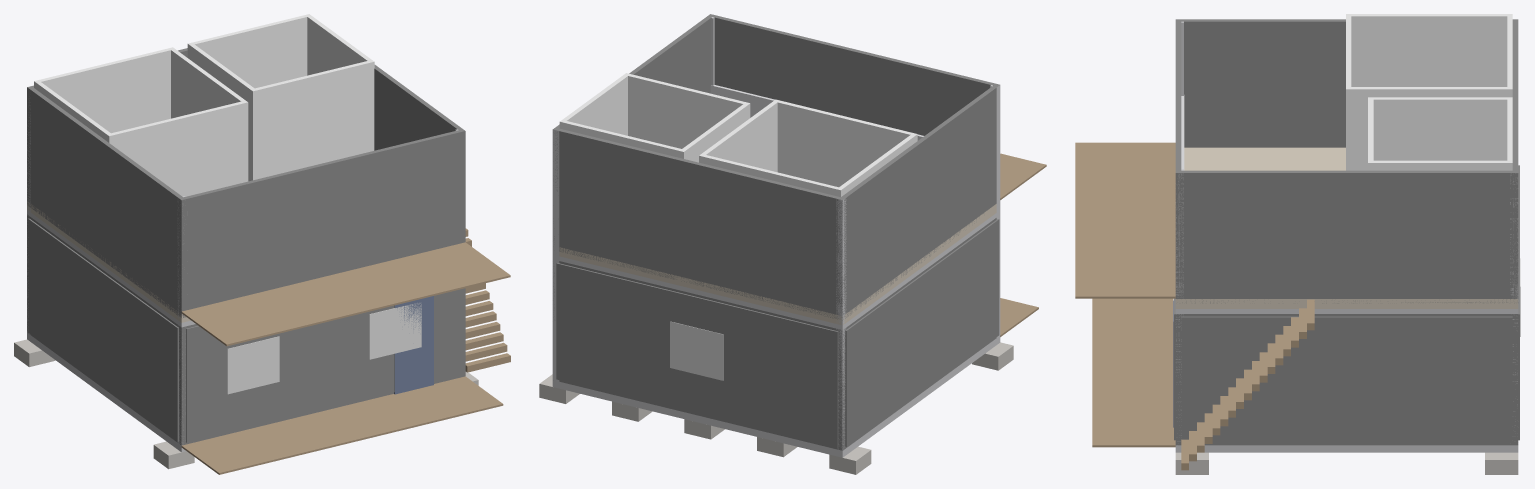
Rendered from Duplex-20-Base-AntiqueWallGrey-LOD1.glb.
The picture shows the model from 3 angles, left to right: view 1: azimuth 30°, elevation 25°; view 2: azimuth 150°, elevation 25°; view 3: azimuth 270°, elevation 25°; orthographic projection. The views are drawn at different scales.
Visible parts, largest first — view 1: ExteriorShellUpper, ExteriorPanelsStandard, StudyUpper, BedroomUpper, BalconyUpper, BalconyGround, WindowsStandard, StaircaseExternal, EntryDoor, ExteriorShell, FoundationBlocks, BaseFrame (+3 smaller); view 2: ExteriorShellUpper, ExteriorPanelsStandard, BedroomUpper, StudyUpper, VerticalStructure, FloorUpper, FoundationBlocks, BaseFrame, ExteriorShell, WindowsStandard, TopFrame, BalconyUpper (+2 smaller); view 3: ExteriorShellUpper, ExteriorPanelsStandard, BalconyUpper, BedroomUpper, BalconyGround, StudyUpper, FloorUpper, StaircaseExternal, ExteriorShell, BaseFrame, TopFrame, FoundationBlocks (+1 smaller).
Part boxes in pixels (x1,y1,x2,y2): ExteriorShellUpper: (27,48,465,317); ExteriorPanelsStandard: (28,218,461,442); StudyUpper: (187,14,374,181); BedroomUpper: (34,47,248,196); BalconyUpper: (181,242,510,346); BalconyGround: (181,376,503,474); WindowsStandard: (227,303,421,394); StaircaseExternal: (465,228,510,372); EntryDoor: (394,296,433,394); ExteriorShell: (27,214,465,445); FoundationBlocks: (14,339,478,469); BaseFrame: (27,333,186,452); ExteriorShellUpper: (553,14,999,320); ExteriorPanelsStandard: (556,219,999,447); BedroomUpper: (699,99,917,197); StudyUpper: (559,73,750,162); VerticalStructure: (552,17,1000,449); FloorUpper: (553,204,996,325); FoundationBlocks: (539,342,1013,474); BaseFrame: (552,336,1000,457); ExteriorShell: (553,218,996,450); WindowsStandard: (670,321,723,380); TopFrame: (559,213,996,329); BalconyUpper: (1000,153,1046,199); ExteriorShellUpper: (1175,19,1518,303); ExteriorPanelsStandard: (1174,165,1519,443); BalconyUpper: (1075,142,1175,298); BedroomUpper: (1346,14,1512,170); BalconyGround: (1092,298,1175,447); StudyUpper: (1368,97,1512,170); FloorUpper: (1175,147,1518,308); StaircaseExternal: (1181,299,1314,470); ExteriorShell: (1175,314,1518,445); BaseFrame: (1175,445,1518,452); TopFrame: (1175,309,1518,313); FoundationBlocks: (1175,452,1518,474).
Bounding box in the file's own units: 7.94 × 6 × 8.
